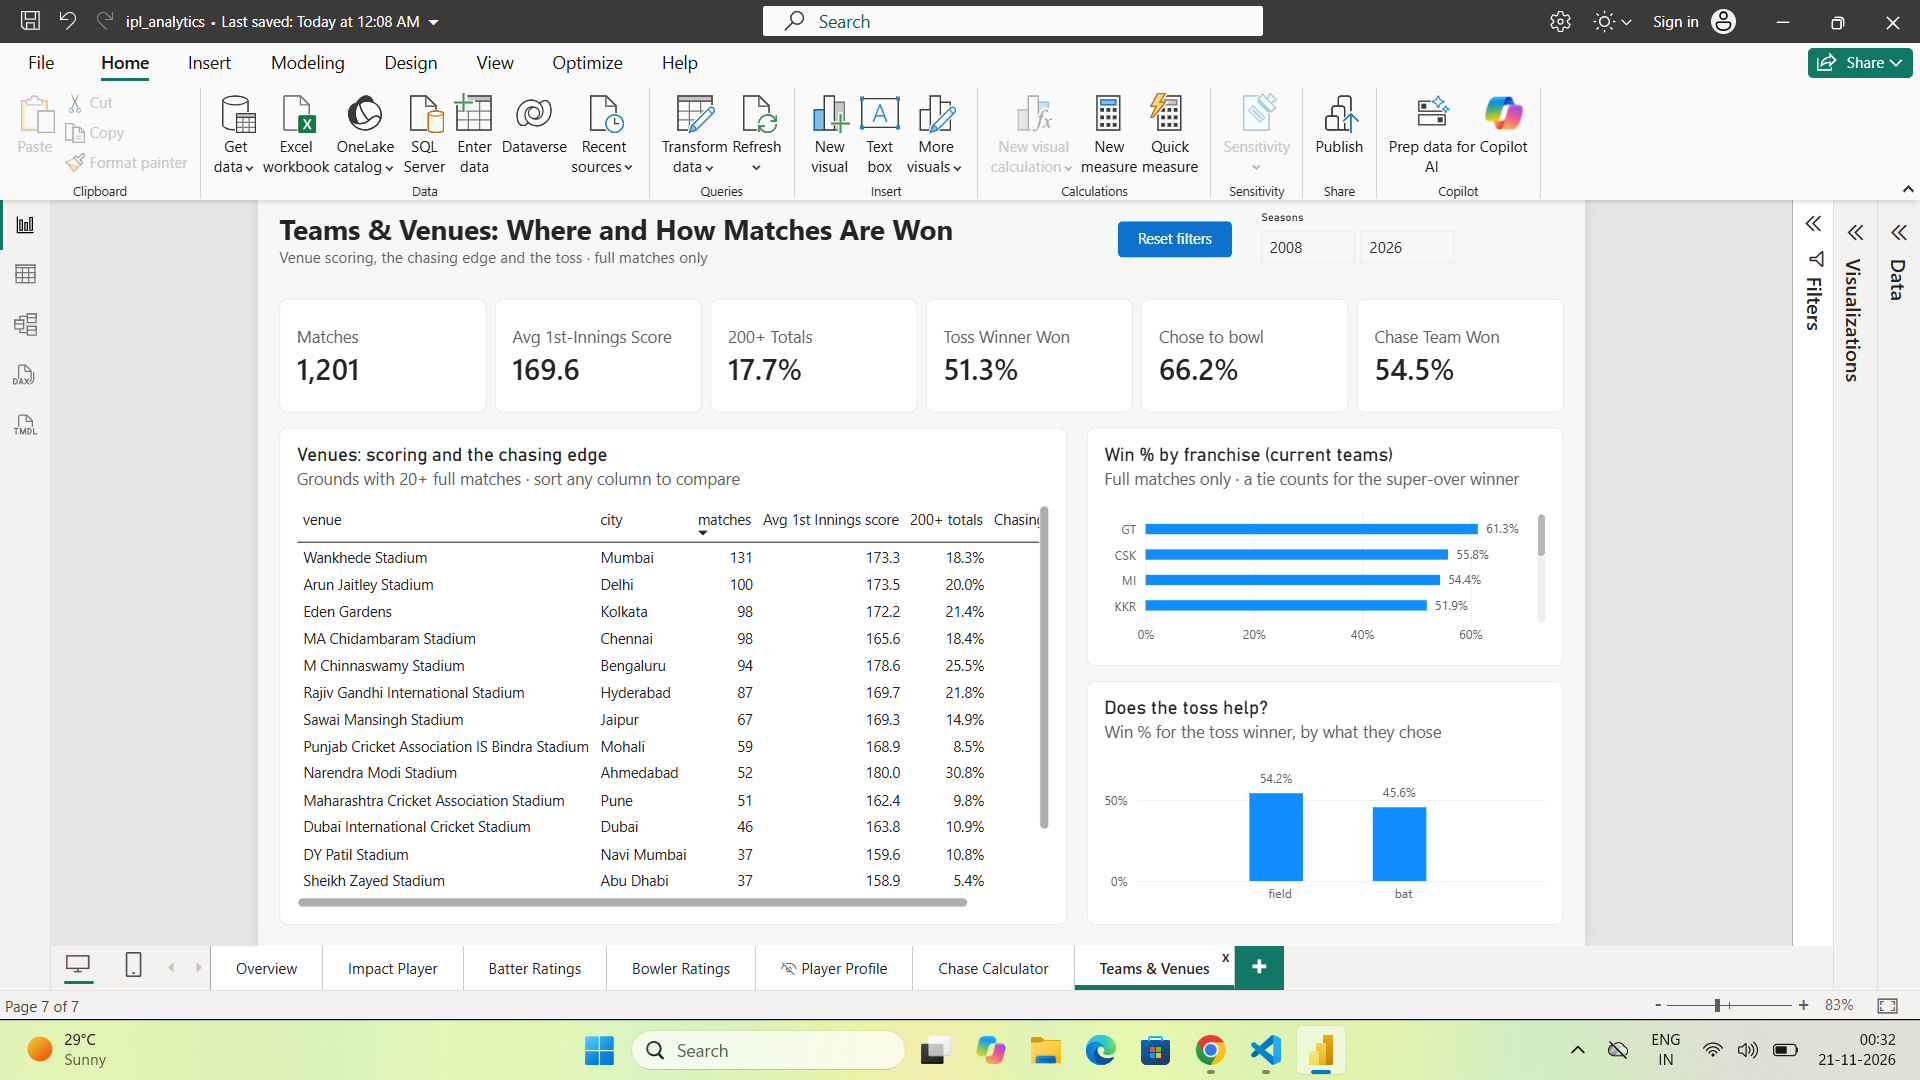

Layout of this report page (visuals, bound fields, positions):
{"tool":"powerbi","page":{"name":"Teams & Venues","canvas":[1280,720],"ordinal":6},"visuals":[{"type":"textbox","box":[20,10,900,70],"z":0},{"type":"slicer","fields":{"Values":["dim_season.season"]},"box":[960,10,300,70],"z":1000},{"type":"cardVisual","fields":{"Data":["_Measures.Matches Display","_Measures.Avg 1st Innings Total","_Measures.200+ Innings %","_Measures.Toss Winner Win %","_Measures.Chose to Bowl %","_Measures.Chase Win %"]},"box":[20,95,1240,110],"z":2000},{"type":"tableEx","title":"Venues: scoring and the chasing edge","fields":{"Values":["dim_match.venue","dim_match.city","_Measures.Full Matches","_Measures.Avg 1st Innings Total","_Measures.200+ Innings %","_Measures.Chase Win %"]},"box":[20,220,760,480],"z":2001},{"type":"clusteredBarChart","title":"Win % by franchise (current teams)","fields":{"Category":["dim_team.short_name"],"Y":["_Measures.Team Win %"]},"box":[800,220,460,230],"z":2002},{"type":"clusteredColumnChart","title":"Does the toss help?","fields":{"Category":["dim_match.toss_decision"],"Y":["_Measures.Toss Winner Win %"]},"box":[800,465,460,235],"z":2003},{"type":"actionButton","box":[830,20,110,35],"z":2004}]}

Visuals, with their boxes on the page's 1280x720 design canvas (x1, y1, x2, y2). These are canvas units, not pixel positions in the 1920x1080 screenshot, which may show the page scaled, cropped or inside an application window:
textbox: region(20, 10, 920, 80)
slicer - dim_season.season: region(960, 10, 1260, 80)
cardVisual - _Measures.Matches Display x _Measures.Avg 1st Innings Total: region(20, 95, 1260, 205)
"Venues: scoring and the chasing edge" tableEx: region(20, 220, 780, 700)
"Win % by franchise (current teams)" clusteredBarChart: region(800, 220, 1260, 450)
"Does the toss help?" clusteredColumnChart: region(800, 465, 1260, 700)
actionButton: region(830, 20, 940, 55)
